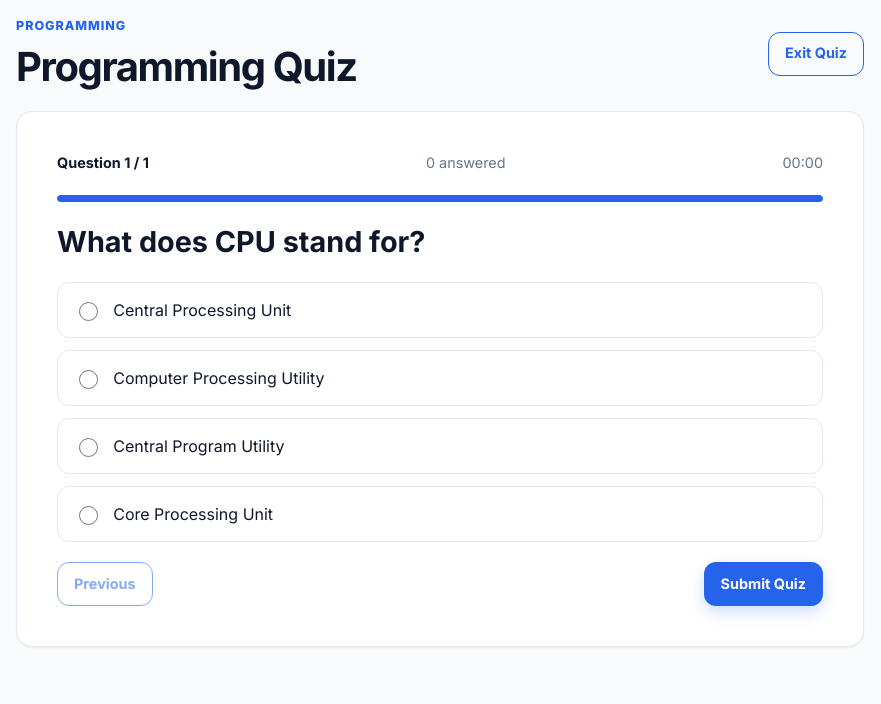
Test: prevents duplicate attempts when submit is clicked twice
Click the button "Submit Quiz".
click(763, 584)  # box [704,562,823,606]
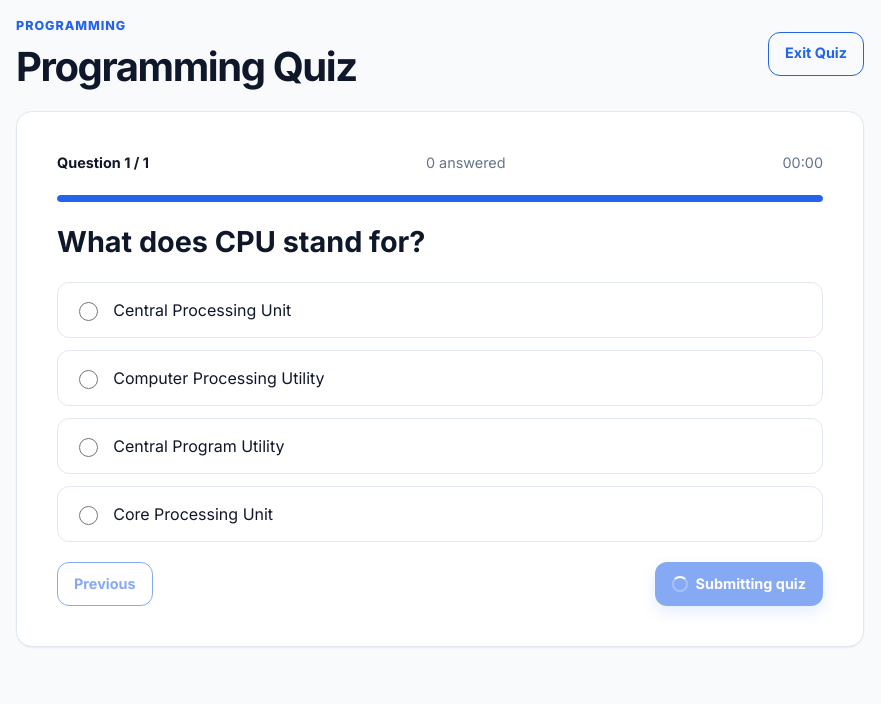
Click the button named "Submit Quiz".
click(739, 584)  # box [655,562,823,606]
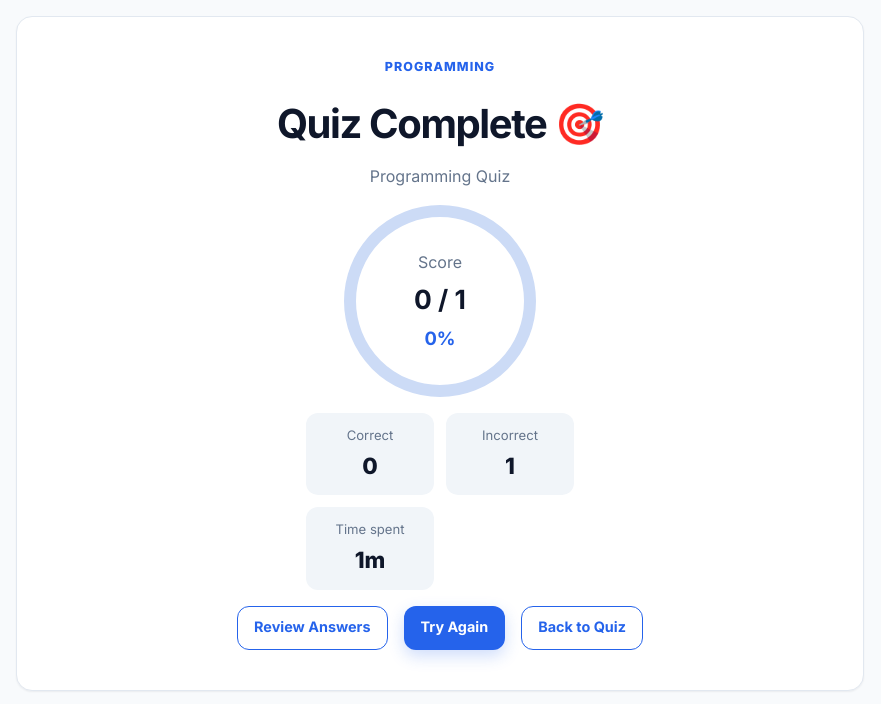
Check: the heading "Quiz Complete 🎯" is shown, box [277,100,603,148]
